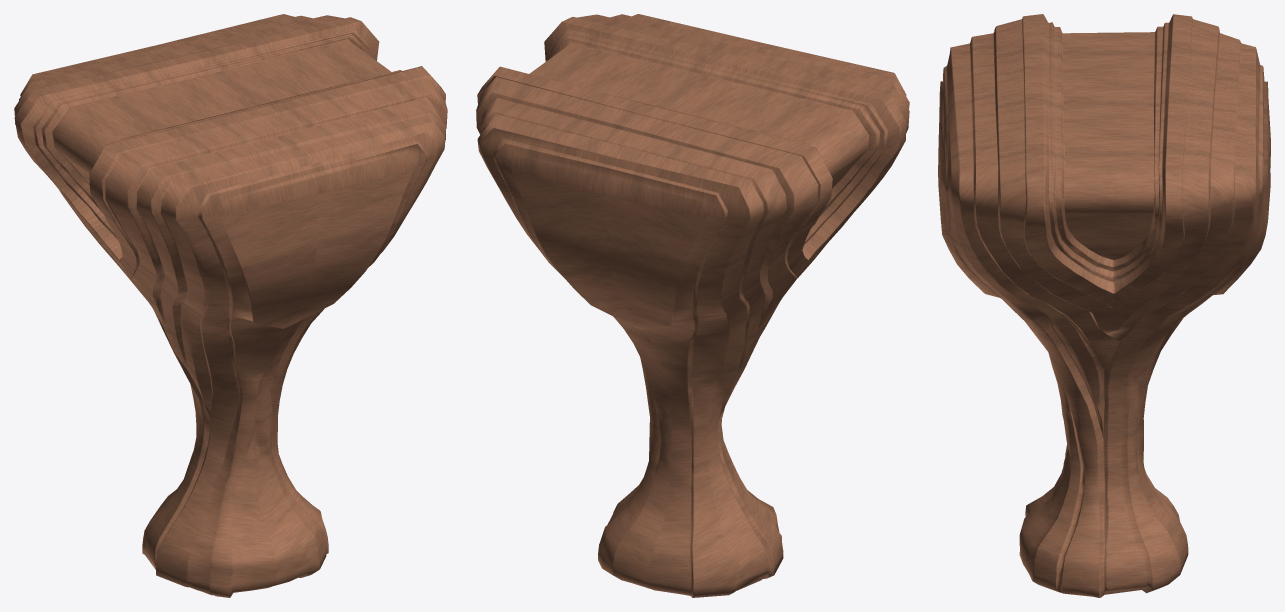
The model's file is Geonosis_Pillar02.fbx.
3 views of the same model, side by side, from view 1: azimuth 30°, elevation 25°; view 2: azimuth 150°, elevation 25°; view 3: azimuth 270°, elevation 25° (orthographic).
Visible parts, largest first — view 1: Geonosis_Pillar02; view 2: Geonosis_Pillar02; view 3: Geonosis_Pillar02.
Part boxes in pixels (left/top/right/bottom): Geonosis_Pillar02: left=14, top=14, right=447, bottom=597; Geonosis_Pillar02: left=476, top=14, right=909, bottom=597; Geonosis_Pillar02: left=938, top=14, right=1270, bottom=597.
Bounding box in the file's own units: 1041 × 1361 × 858.
